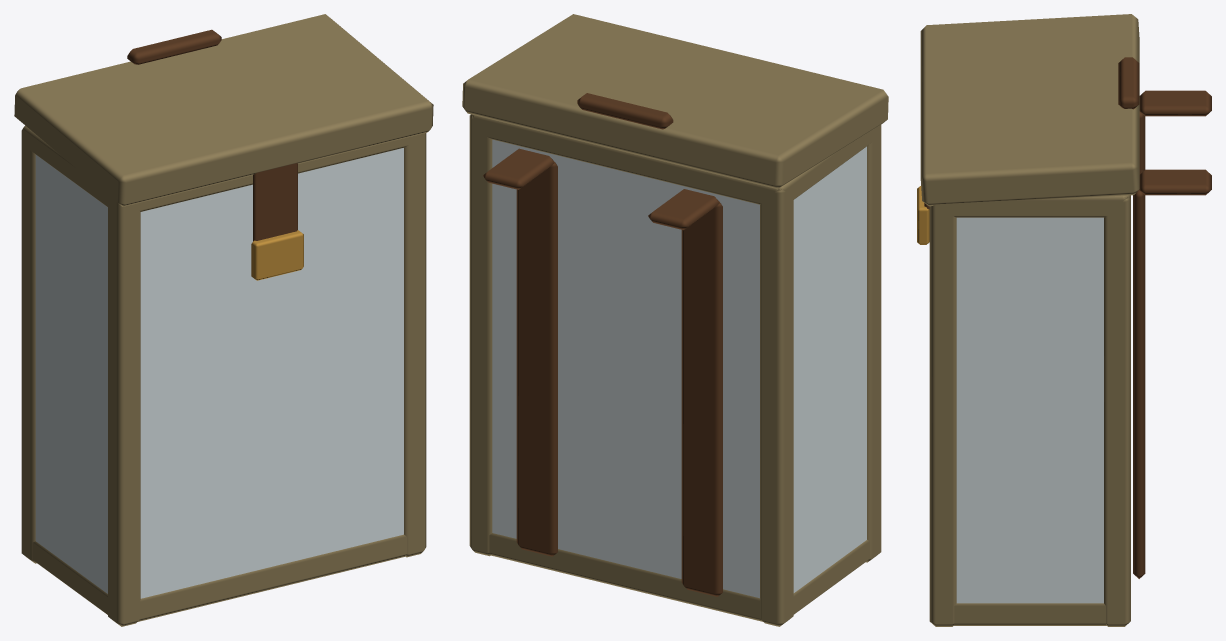
The model's file is Backsack.glb.
The picture shows the model from 3 angles, left to right: view 1: azimuth 30°, elevation 25°; view 2: azimuth 150°, elevation 25°; view 3: azimuth 270°, elevation 25°; orthographic projection. The views are drawn at different scales.
Parts seen in each view (by area): view 1: Backsack.001; view 2: Backsack.001; view 3: Backsack.001.
Part boxes in pixels (x1,y1,x2,y2): Backsack.001: (14, 14, 433, 626); Backsack.001: (462, 14, 888, 626); Backsack.001: (917, 14, 1211, 626).
Size of the model in its own units: 0.35 by 0.5075 by 0.284.
